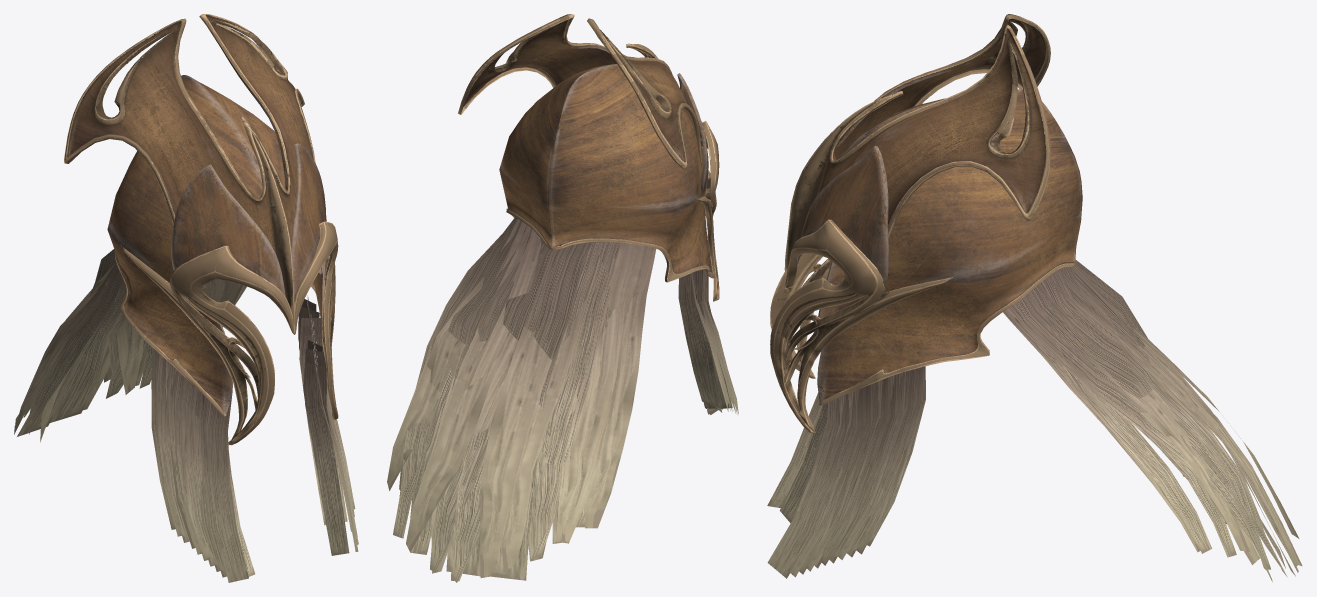
The model's file is mkwd_inf3_t4_helmet_gold_hc.fbx.
The picture shows the model from 3 angles, left to right: view 1: azimuth 30°, elevation 25°; view 2: azimuth 150°, elevation 25°; view 3: azimuth 270°, elevation 25°; orthographic projection. The views are drawn at different scales.
Parts seen in each view (by area): view 1: mkwd_inf3_t4_helmet_gold_hc.lod0.0, mkwd_inf3_t4_helmet_gold_hc.lod0.1; view 2: mkwd_inf3_t4_helmet_gold_hc.lod0.1, mkwd_inf3_t4_helmet_gold_hc.lod0.0; view 3: mkwd_inf3_t4_helmet_gold_hc.lod0.0, mkwd_inf3_t4_helmet_gold_hc.lod0.1.
Boxes of the visible parts, left/top/right/bottom form: mkwd_inf3_t4_helmet_gold_hc.lod0.0: left=64, top=14, right=338, bottom=445; mkwd_inf3_t4_helmet_gold_hc.lod0.1: left=14, top=249, right=358, bottom=582; mkwd_inf3_t4_helmet_gold_hc.lod0.1: left=387, top=217, right=738, bottom=582; mkwd_inf3_t4_helmet_gold_hc.lod0.0: left=458, top=14, right=719, bottom=301; mkwd_inf3_t4_helmet_gold_hc.lod0.0: left=770, top=14, right=1082, bottom=433; mkwd_inf3_t4_helmet_gold_hc.lod0.1: left=767, top=260, right=1302, bottom=581.
Bounding box in the file's own units: 0.2734 × 0.4828 × 0.5426.
2 materials, 2 textured.
